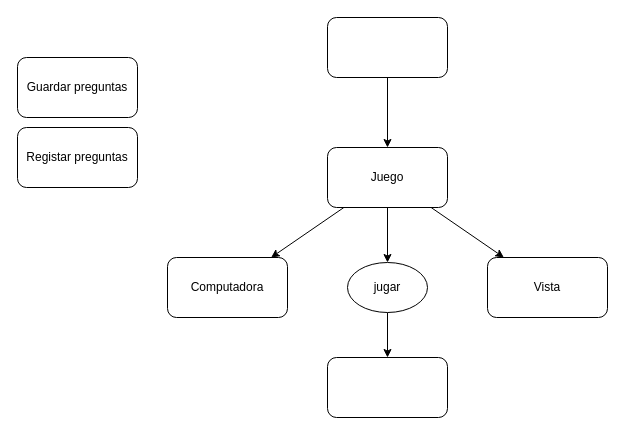
This 625x435 diagram has some shape labels left out. The centre of each missing label's shape, as x and y in pixels:
"Jugador" goes at [387,387].
"Main" goes at [387,47].
